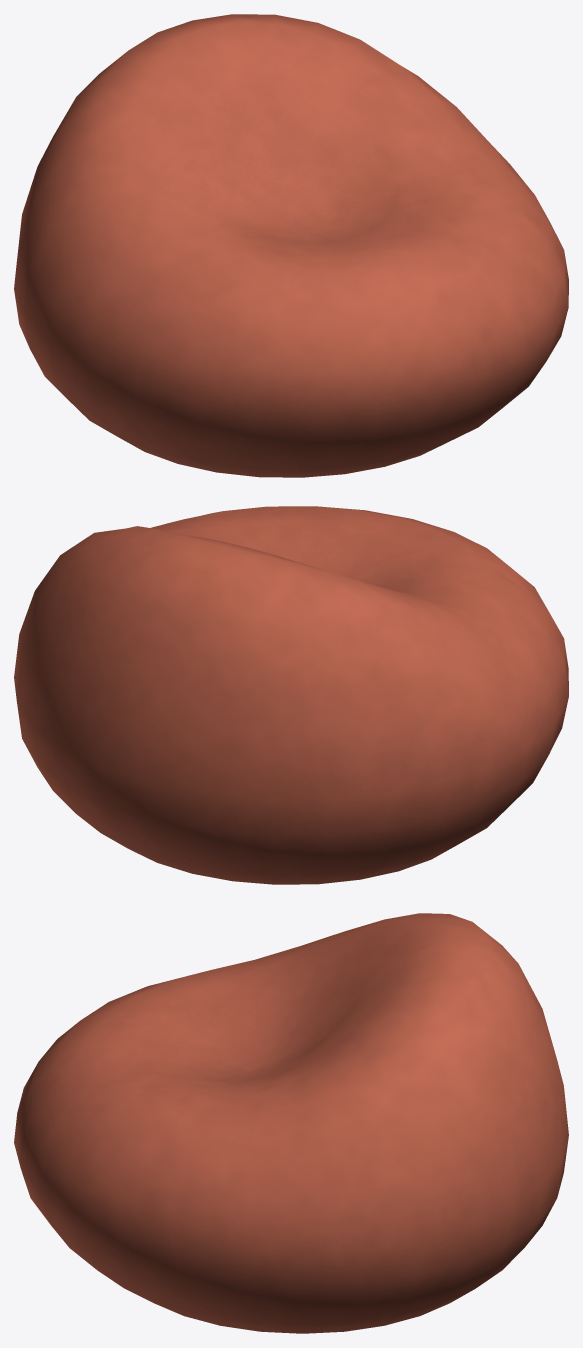
The model's file is bean_bag.glb.
The picture shows the model from 3 angles, top to bottom: view 1: azimuth 30°, elevation 25°; view 2: azimuth 150°, elevation 25°; view 3: azimuth 270°, elevation 25°; orthographic projection.
Visible parts, largest first — view 1: bean_bag; view 2: bean_bag; view 3: bean_bag.
Part boxes in pixels (x1,y1,x2,y2): bean_bag: (14, 14, 568, 477); bean_bag: (14, 506, 568, 884); bean_bag: (14, 913, 568, 1333).
Size of the model in its own units: 0.8428 by 0.5417 by 0.8611.
Materials: 1 (1 with a texture image).
